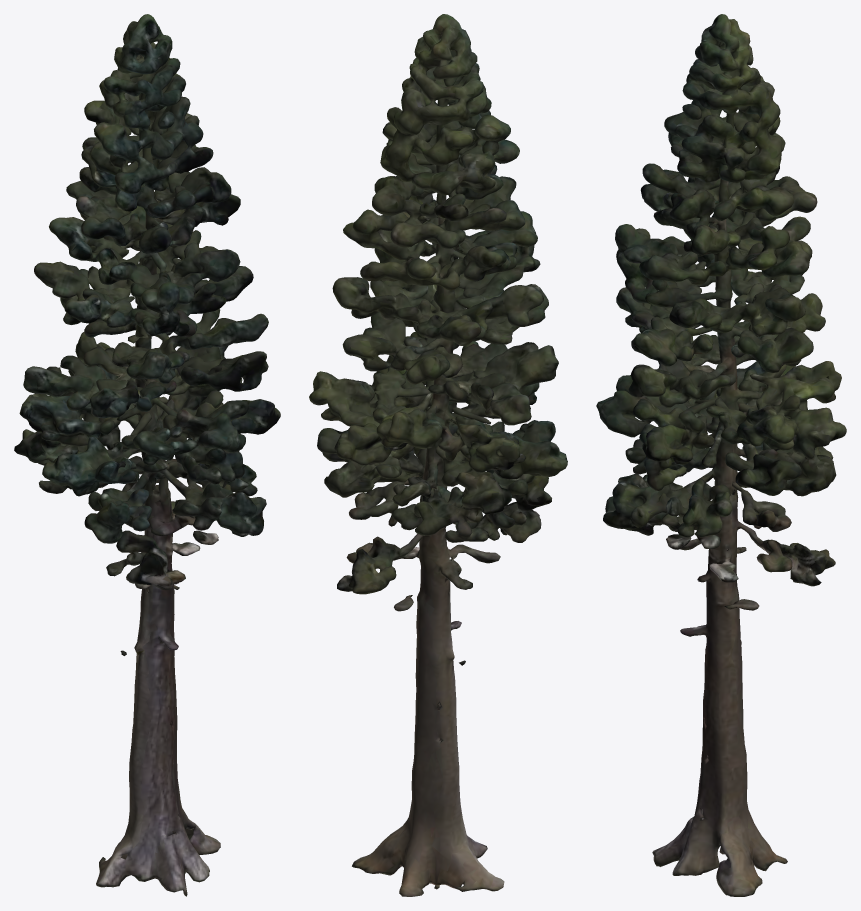
The model's file is Pin_tree_.glb.
3 views of the same model, side by side, from view 1: azimuth 30°, elevation 25°; view 2: azimuth 150°, elevation 25°; view 3: azimuth 270°, elevation 25° (orthographic). The views are drawn at different scales.
Parts seen in each view (by area): view 1: Pin_tree_; view 2: Pin_tree_; view 3: Pin_tree_.
Part boxes in pixels (bbox=[...]): Pin_tree_: bbox=[14, 14, 280, 896]; Pin_tree_: bbox=[309, 14, 567, 896]; Pin_tree_: bbox=[596, 14, 846, 896].
Bounding box in the file's own units: 0.5366 × 2.02 × 0.5404.
1 material, 1 textured.
